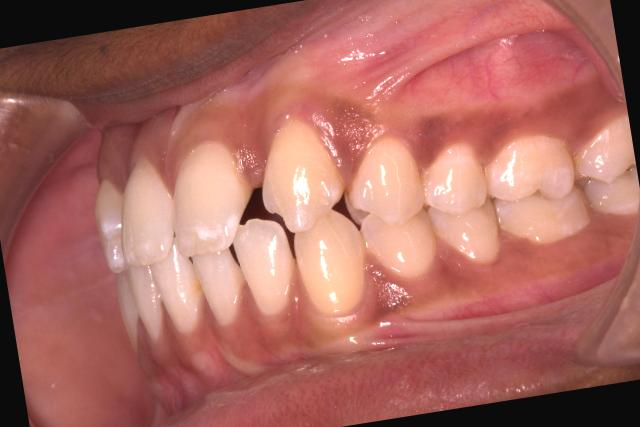canine class II 3/4: (250, 98, 446, 327)
molar class II 3/4: (478, 118, 599, 255)
